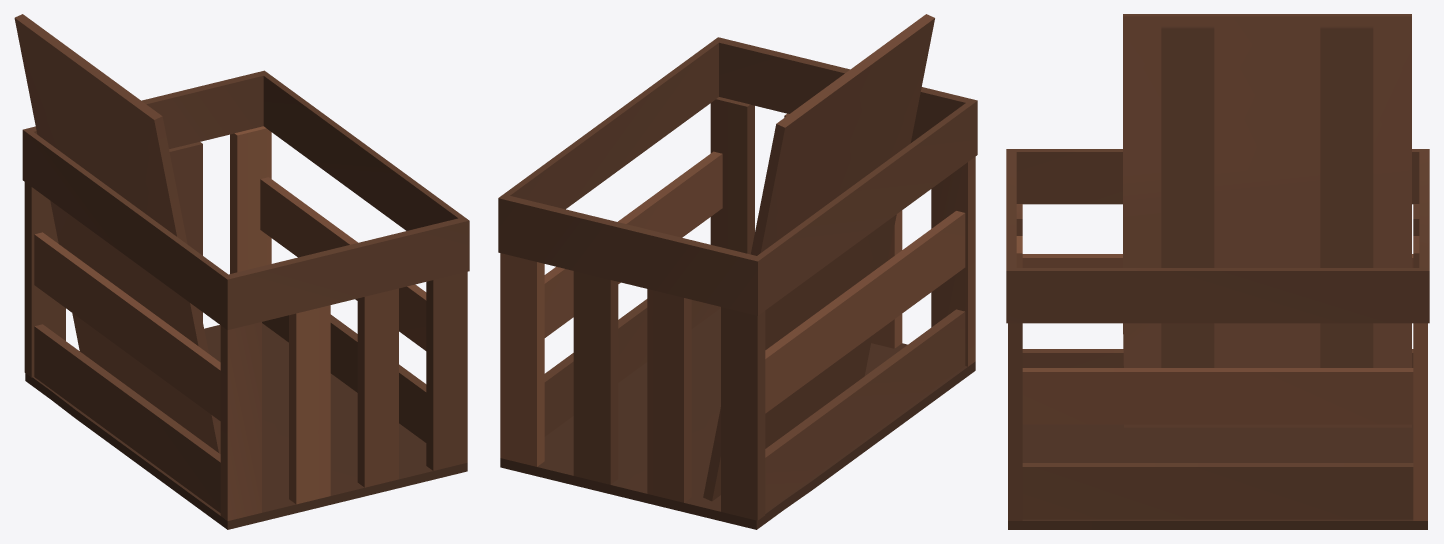
The model's file is Small Cherry Crate Leaned Lid.fbx.
The picture shows the model from 3 angles, left to right: view 1: azimuth 30°, elevation 25°; view 2: azimuth 150°, elevation 25°; view 3: azimuth 270°, elevation 25°; orthographic projection. The views are drawn at different scales.
Parts seen in each view (by area): view 1: Small Cherry Crate Leaned Lid; view 2: Small Cherry Crate Leaned Lid; view 3: Small Cherry Crate Leaned Lid.
Part boxes in pixels (x1,y1,x2,y2): Small Cherry Crate Leaned Lid: [14, 14, 469, 529]; Small Cherry Crate Leaned Lid: [498, 14, 977, 529]; Small Cherry Crate Leaned Lid: [1006, 14, 1429, 529].
Size of the model in its own units: 206 by 204 by 148.
1 material, 1 textured.
